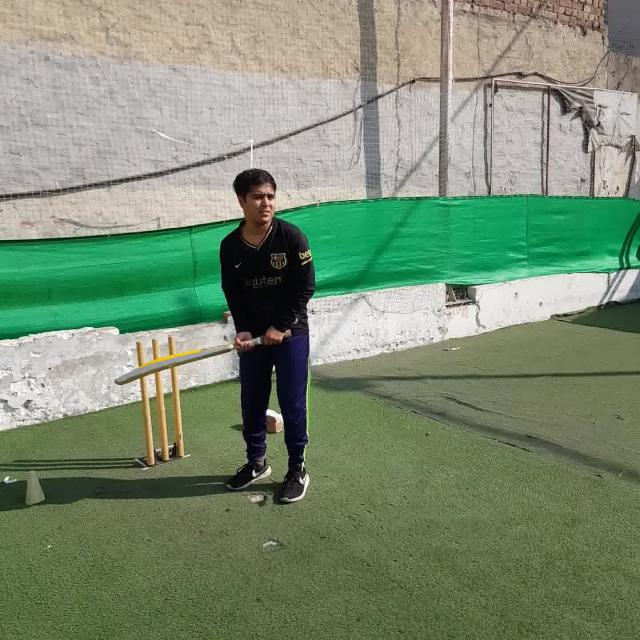bat: (117, 325, 295, 386)
